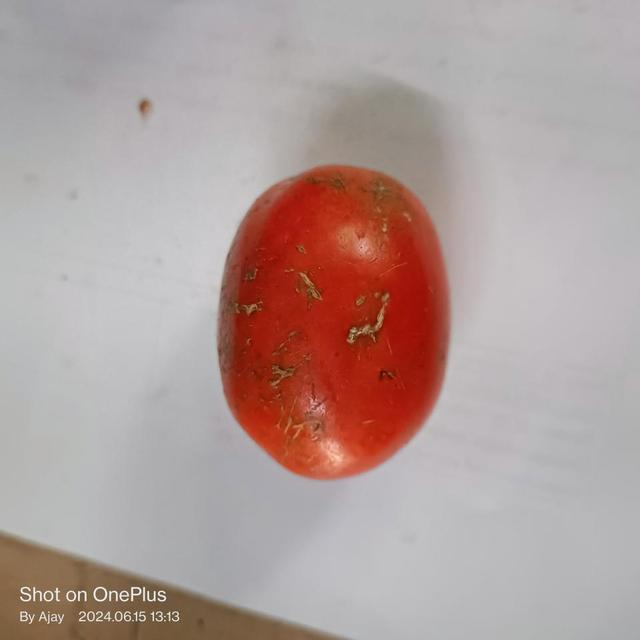Bacterial Spot Fruit: (14, 12, 258, 284)
